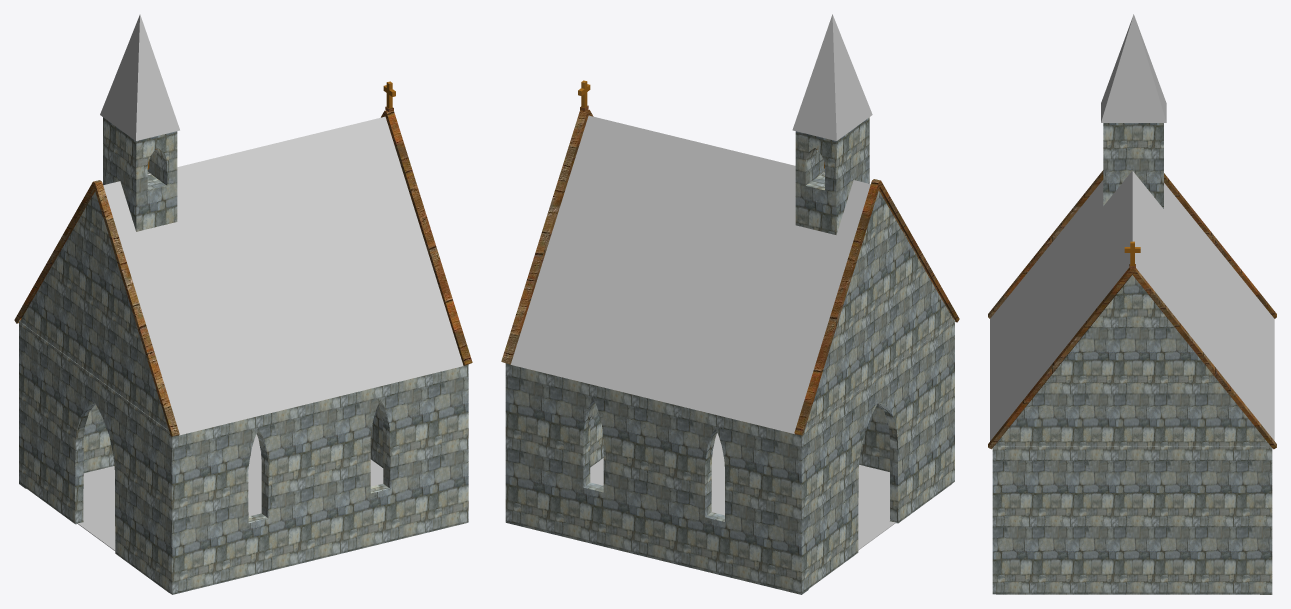
Rendered from Chapel.FBX.
3 renders of one model, left to right at view 1: azimuth 30°, elevation 25°; view 2: azimuth 150°, elevation 25°; view 3: azimuth 270°, elevation 25°, orthographic. The views are drawn at different scales.
Visible parts, largest first — view 1: Chapel001; view 2: Chapel001; view 3: Chapel001.
Part boxes in pixels (box(x1,y1,x2,y2)): Chapel001: box(14, 14, 472, 594); Chapel001: box(501, 14, 959, 594); Chapel001: box(988, 14, 1276, 594).
Bounding box in the file's own units: 27957 × 45776 × 25539.
